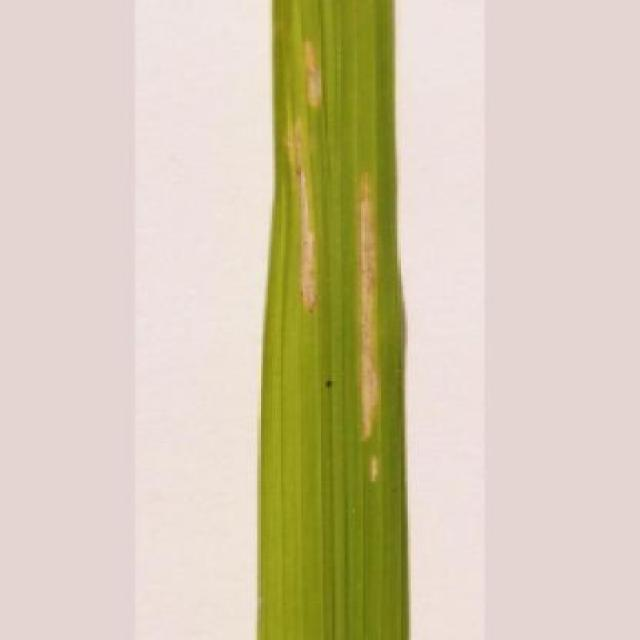Brown_Spot: (254, 0, 409, 640)
